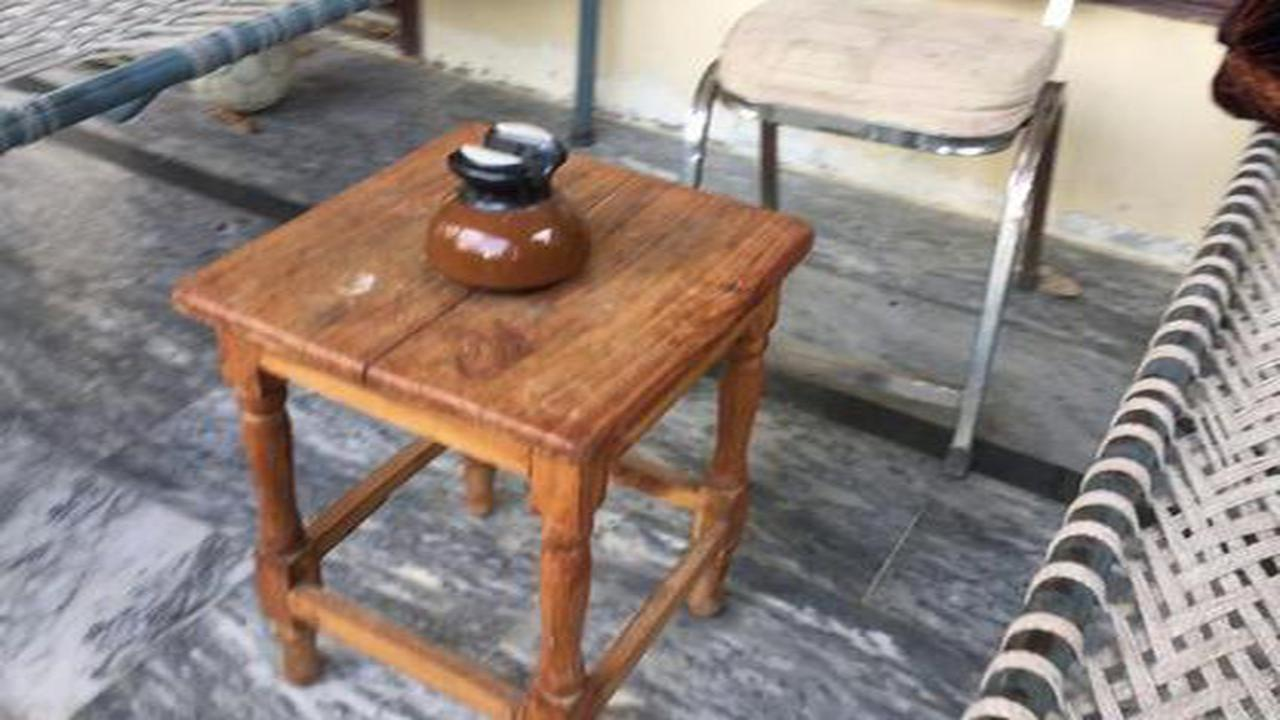insulator_pin: (407, 103, 628, 316)
